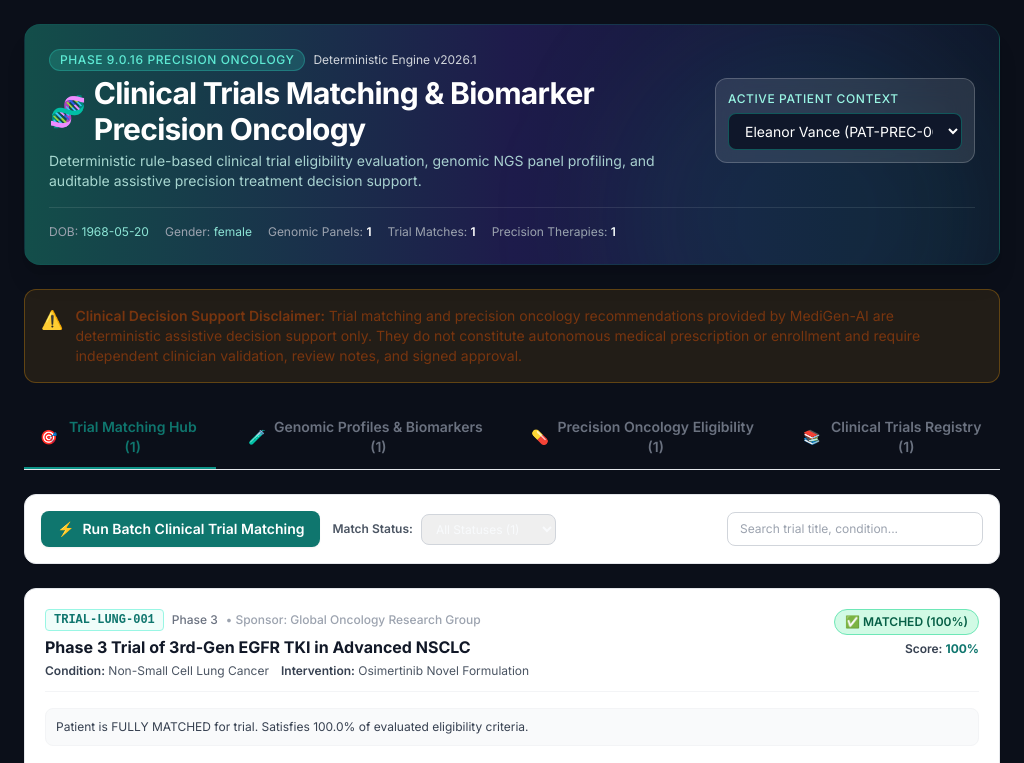
Test case: Phase 9.0.16: TrialsPrecisionWorkspace Component › navigates to Precision Oncology tab and renders targeted therapy recommendations
What coordinates should you click on to do the following:
click the button with test id "tab-precision"
I would click on:
 (643, 438)
Its box is 515,407 -> 771,469.
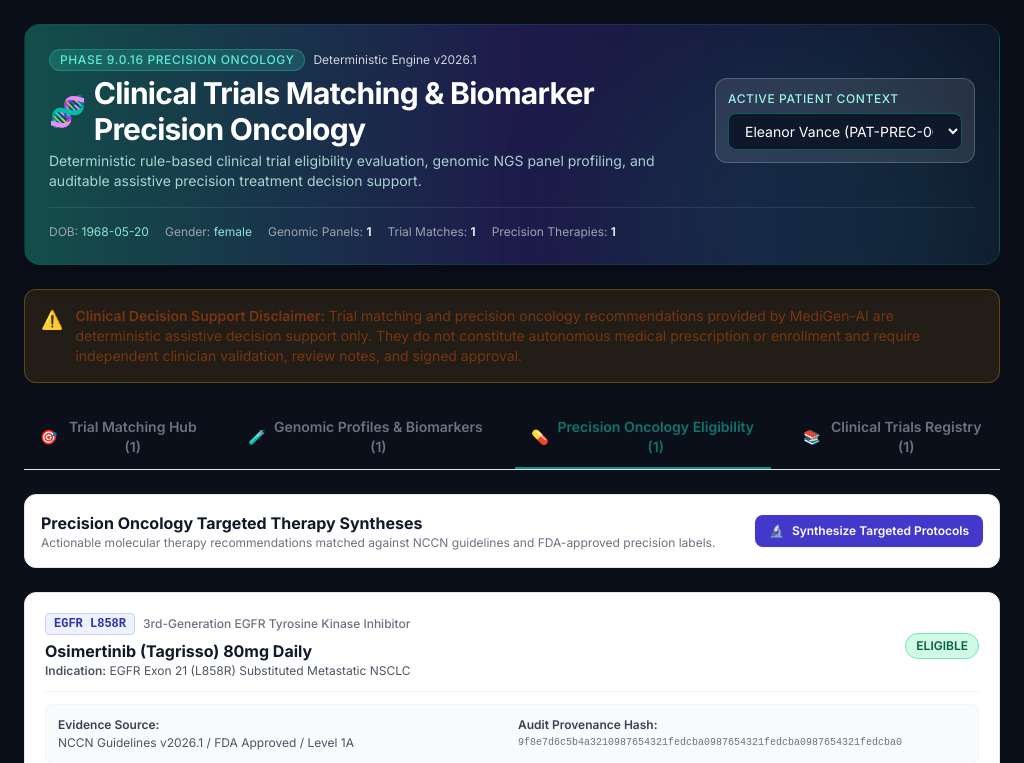
Check: the heading "Osimertinib (Tagrisso) 80mg Daily" is shown, box 45,641 -> 312,661
Check: the text "3rd-Generation EGFR Tyrosine Kinase Inhibitor" is shown, box 143,616 -> 410,632
Check: the text "NCCN Guidelines v2026.1 / FDA Approved / Level 1A" is shown, box 58,735 -> 354,750
